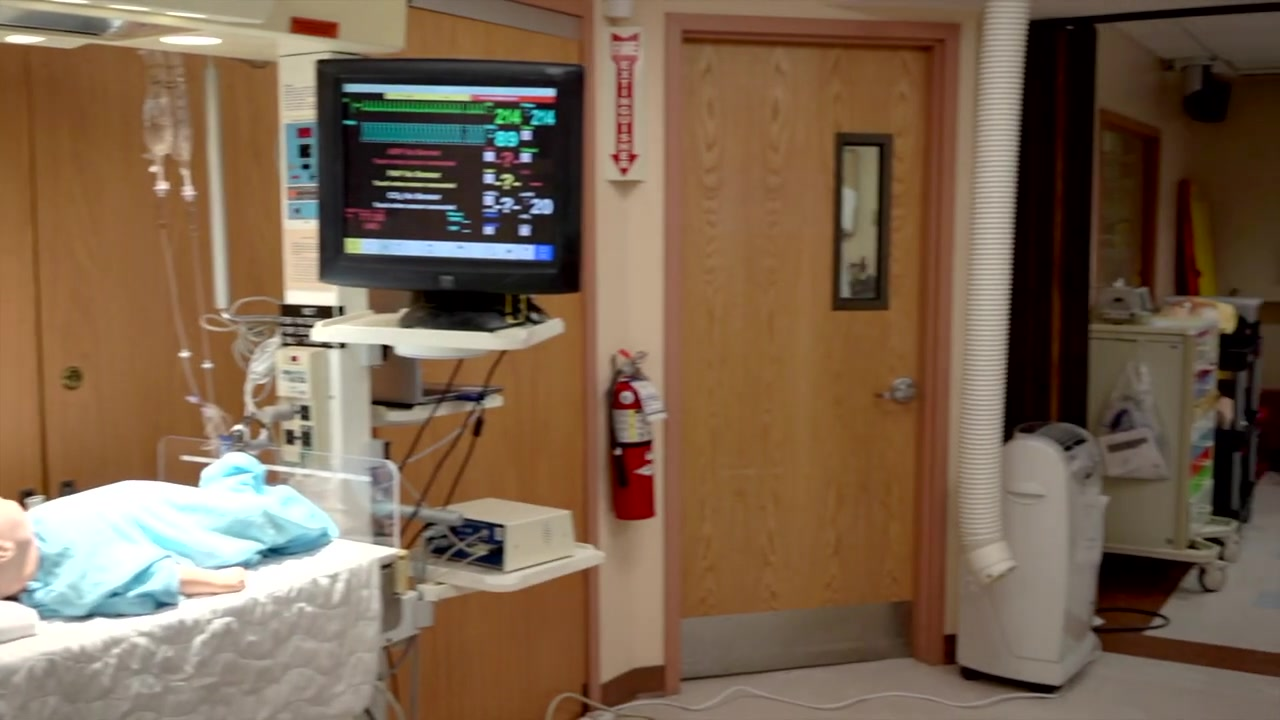bedside_monitor: (314, 58, 585, 296)
door_handle: (874, 376, 922, 405)
handle: (1195, 438, 1215, 450), (1192, 457, 1212, 468), (1191, 476, 1213, 486), (1195, 364, 1217, 373), (1194, 503, 1212, 513), (1195, 382, 1213, 392), (1195, 345, 1212, 351)
medical_drawer: (1092, 312, 1241, 564)
panda_baby_warmer: (1, 2, 407, 720)
patient: (1, 451, 340, 620)
